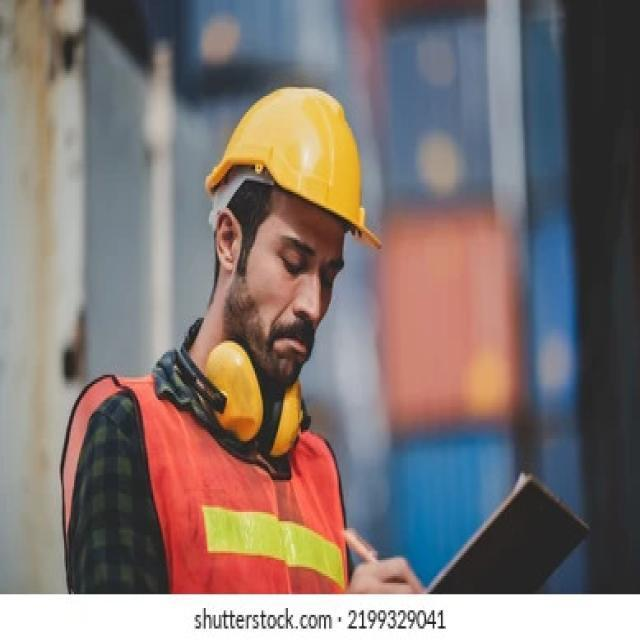safety_helmet: (56, 359, 379, 596)
